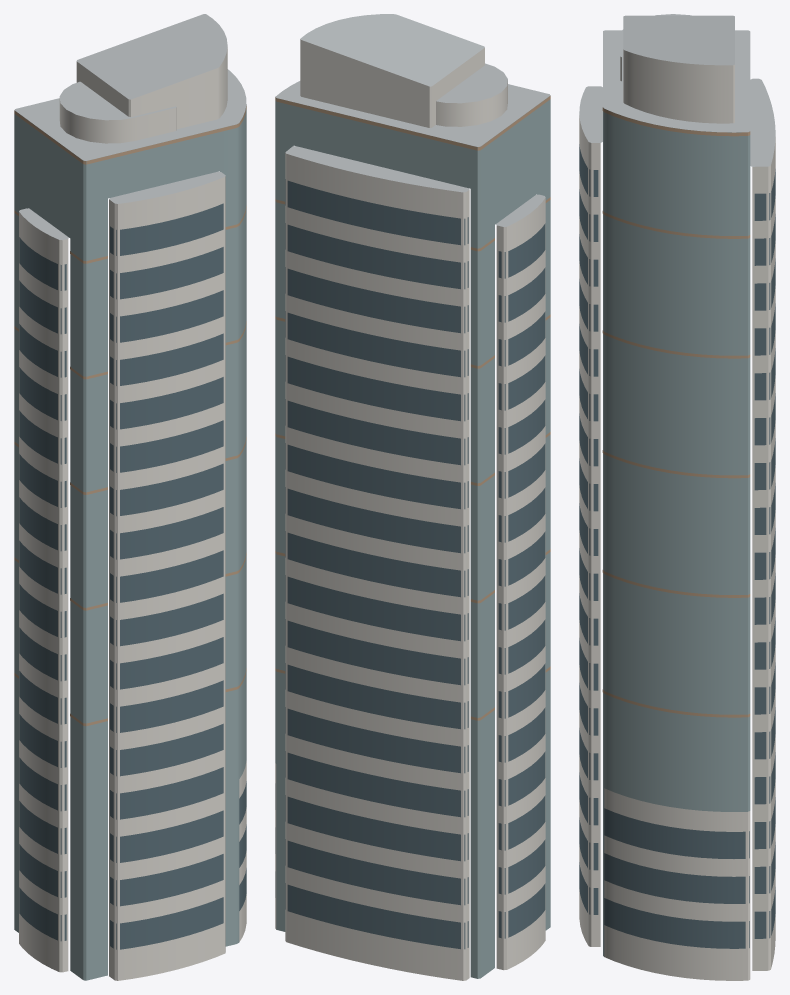
File: sea-two-union-square.glb
The picture shows the model from 3 angles, left to right: view 1: azimuth 30°, elevation 25°; view 2: azimuth 150°, elevation 25°; view 3: azimuth 270°, elevation 25°; orthographic projection. The views are drawn at different scales.
Visible parts, largest first — view 1: Two Union Square; view 2: Two Union Square; view 3: Two Union Square.
Part boxes in pixels (box(x1,y1,x2,y2)): Two Union Square: box(14, 14, 246, 980); Two Union Square: box(275, 14, 550, 980); Two Union Square: box(579, 14, 775, 980).
Size of the model in its own units: 58.55 by 225 by 44.32.
